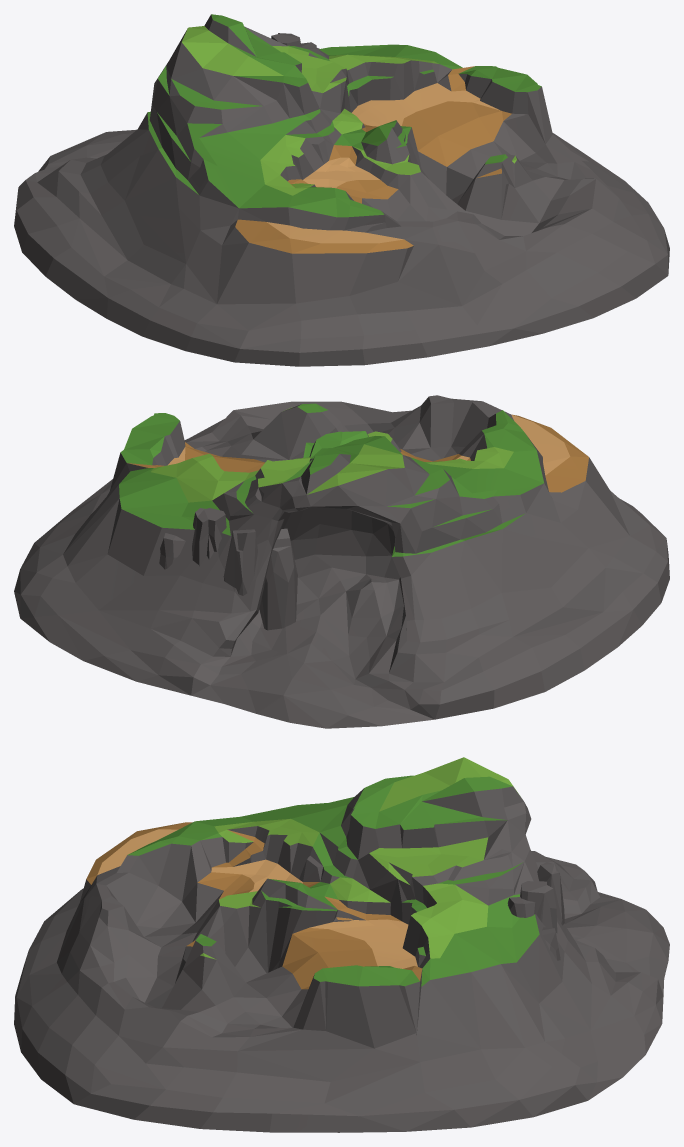
The model's file is terrains_island-cave-large.fbx.
3 renders of one model, top to bottom at view 1: azimuth 30°, elevation 25°; view 2: azimuth 150°, elevation 25°; view 3: azimuth 270°, elevation 25°, orthographic. The views are drawn at different scales.
Parts seen in each view (by area): view 1: terrains_island_cave_large; view 2: terrains_island_cave_large; view 3: terrains_island_cave_large.
Boxes of the visible parts, left/top/right/bottom form: terrains_island_cave_large: left=14, top=14, right=669, bottom=366; terrains_island_cave_large: left=14, top=395, right=669, bottom=728; terrains_island_cave_large: left=14, top=757, right=669, bottom=1132.
Size of the model in its own units: 198 by 64.39 by 200.
